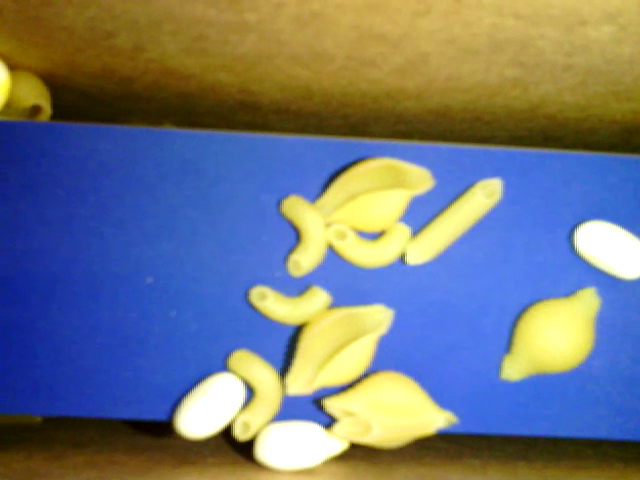elbow: (224, 347, 287, 442), (278, 190, 332, 282), (324, 220, 417, 271), (250, 280, 335, 327)
penne: (409, 174, 504, 269)
shell: (314, 369, 462, 449), (283, 300, 401, 397), (496, 283, 605, 386), (316, 156, 436, 230), (2, 66, 55, 128)
